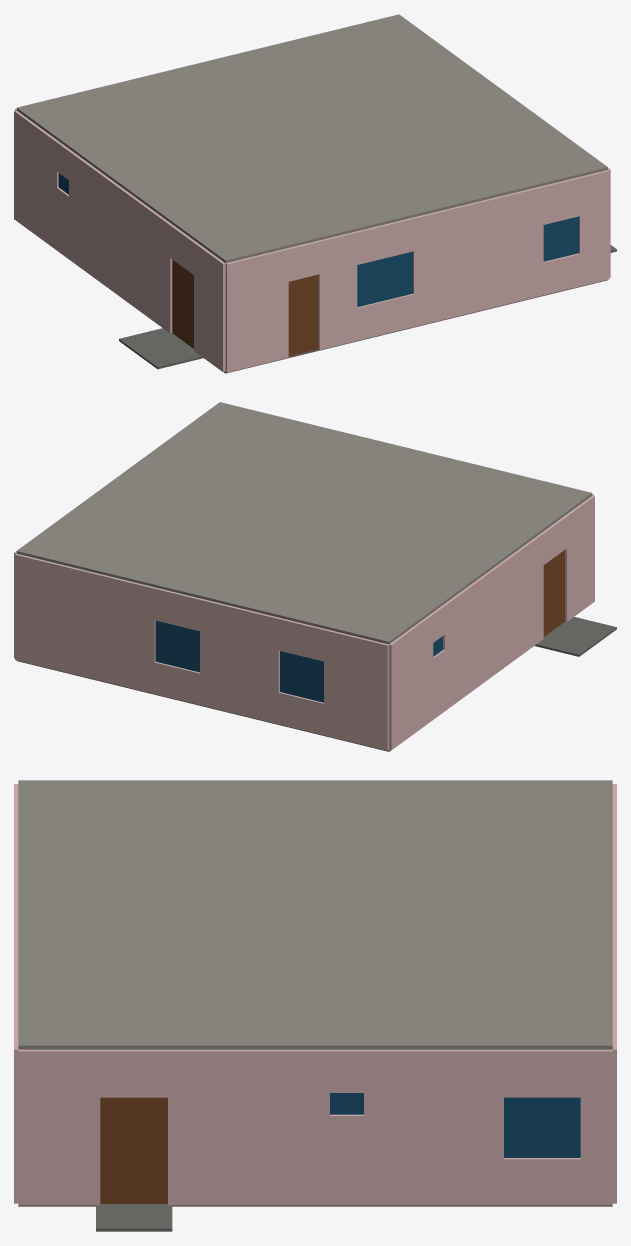
File: 3BHK_02.obj
The picture shows the model from 3 angles, top to bottom: view 1: azimuth 30°, elevation 25°; view 2: azimuth 150°, elevation 25°; view 3: azimuth 270°, elevation 25°; orthographic projection. The views are drawn at different scales.
Bounding box in the file's own units: 13.72 × 3.18 × 10.82.
